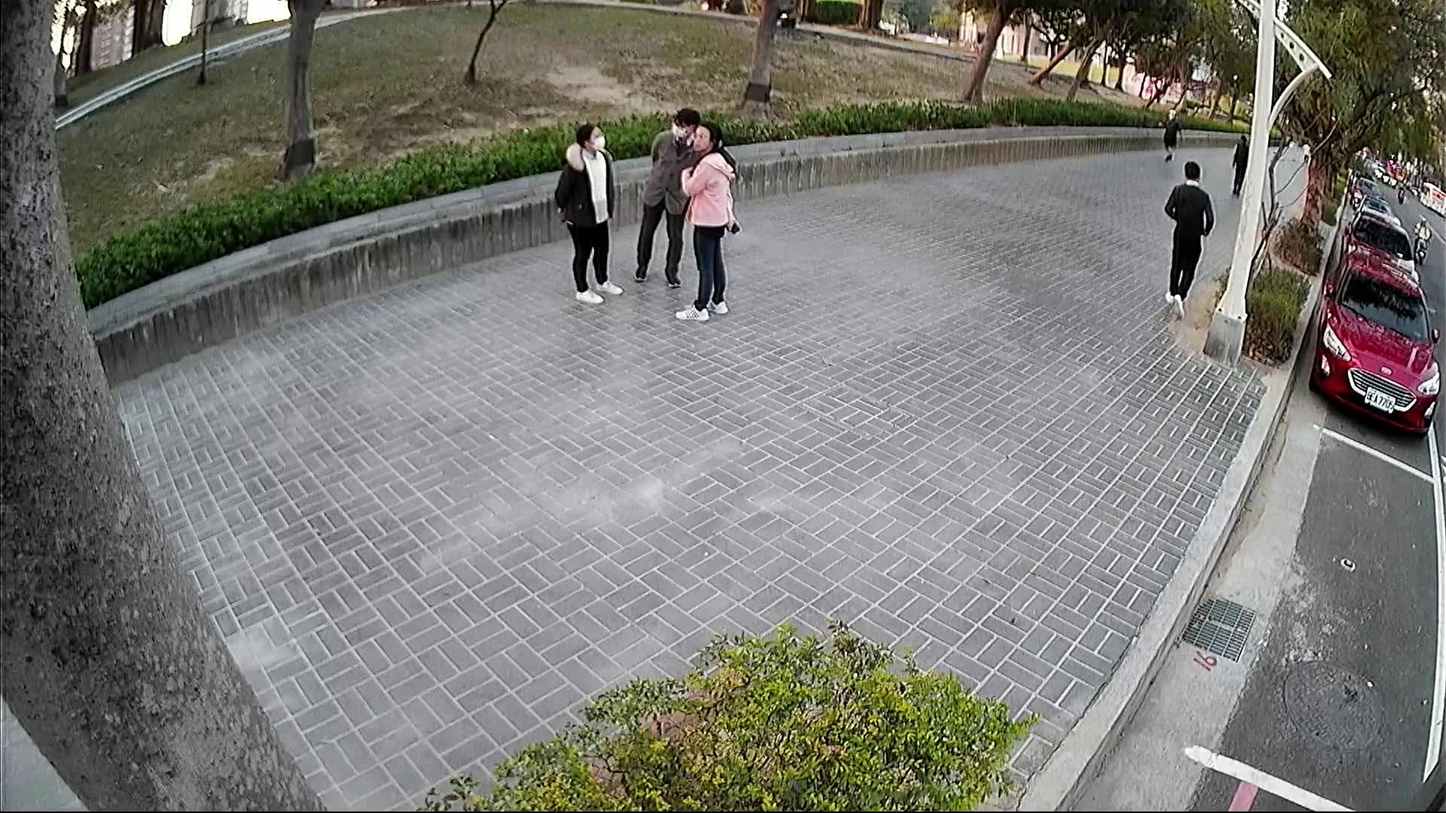person: (666, 115, 742, 324), (549, 116, 626, 306), (630, 99, 703, 289), (1153, 152, 1219, 321), (1226, 129, 1252, 199), (1154, 100, 1183, 161)
